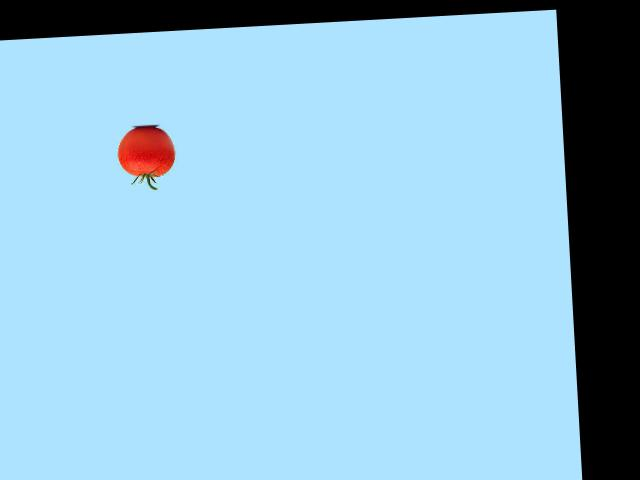tomato: (115, 125, 175, 178)
